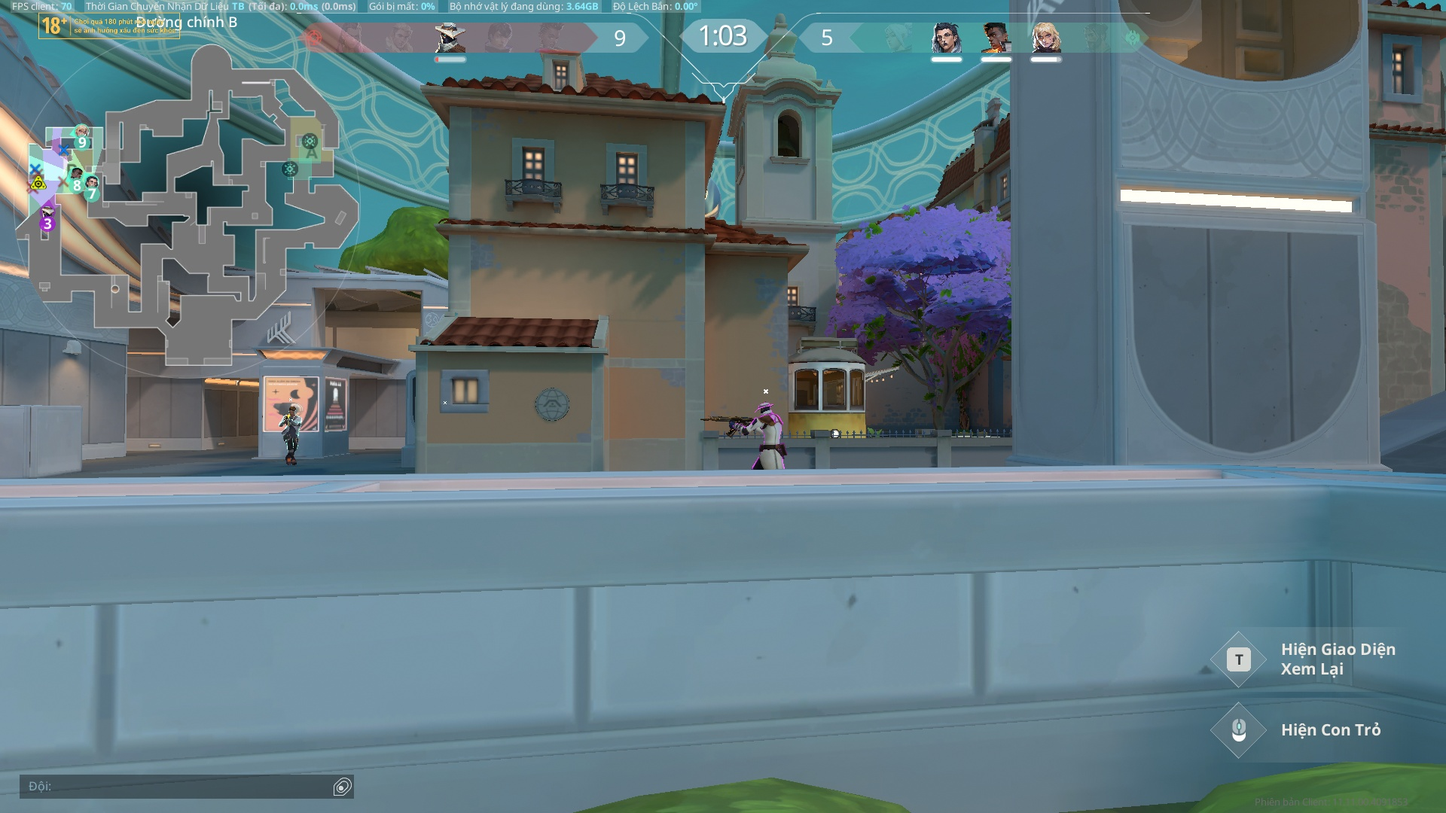body: (755, 413, 784, 444)
head: (758, 402, 774, 414)
